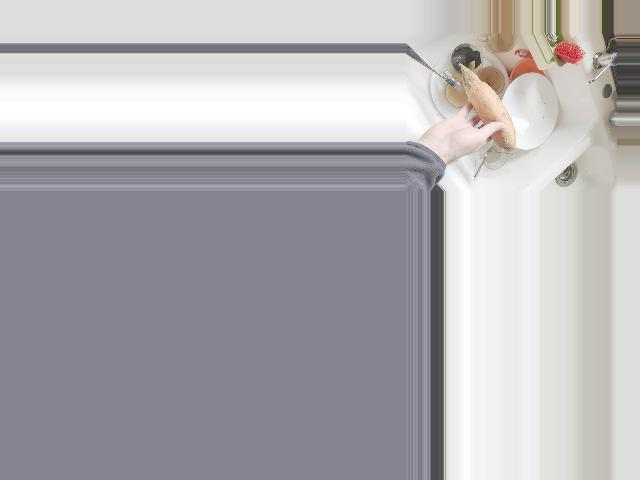sweet_potato: (456, 65, 518, 151)
